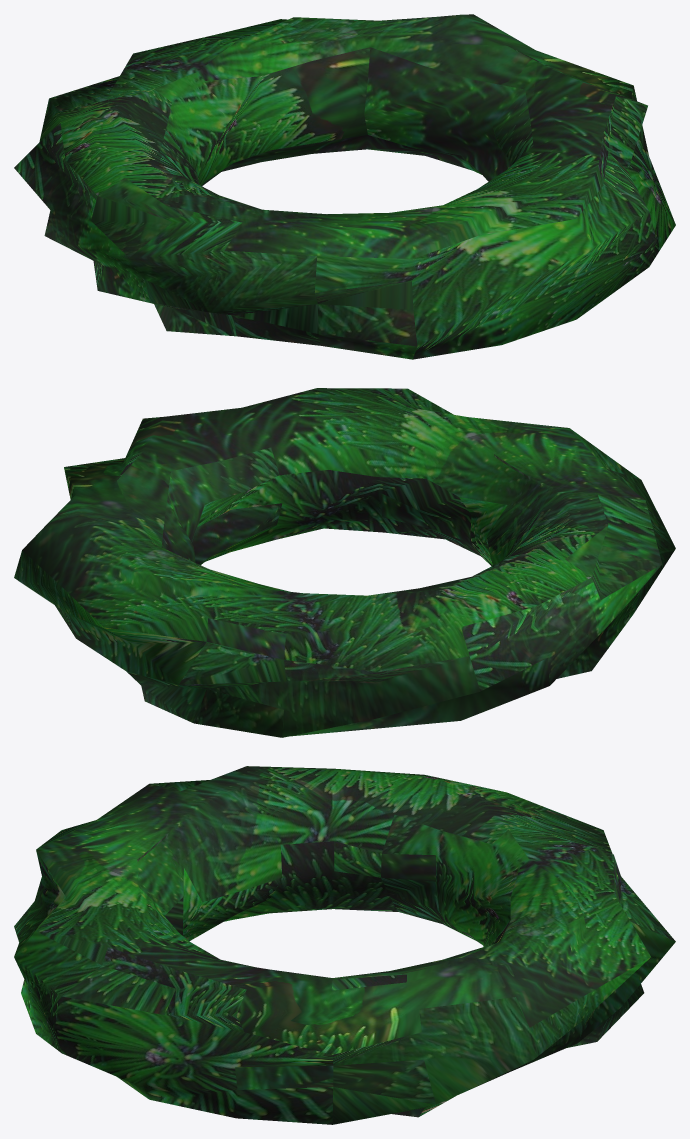
The model's file is Vijenac.fbx.
3 renders of one model, top to bottom at view 1: azimuth 30°, elevation 25°; view 2: azimuth 150°, elevation 25°; view 3: azimuth 270°, elevation 25°, orthographic. The views are drawn at different scales.
Visible parts, largest first — view 1: Vijenac; view 2: Vijenac; view 3: Vijenac.
Boxes of the visible parts, <box> form: Vijenac: <box>14,14,675,359</box>; Vijenac: <box>14,388,675,737</box>; Vijenac: <box>14,766,675,1124</box>.
Size of the model in its own units: 1314 by 284 by 1331.
